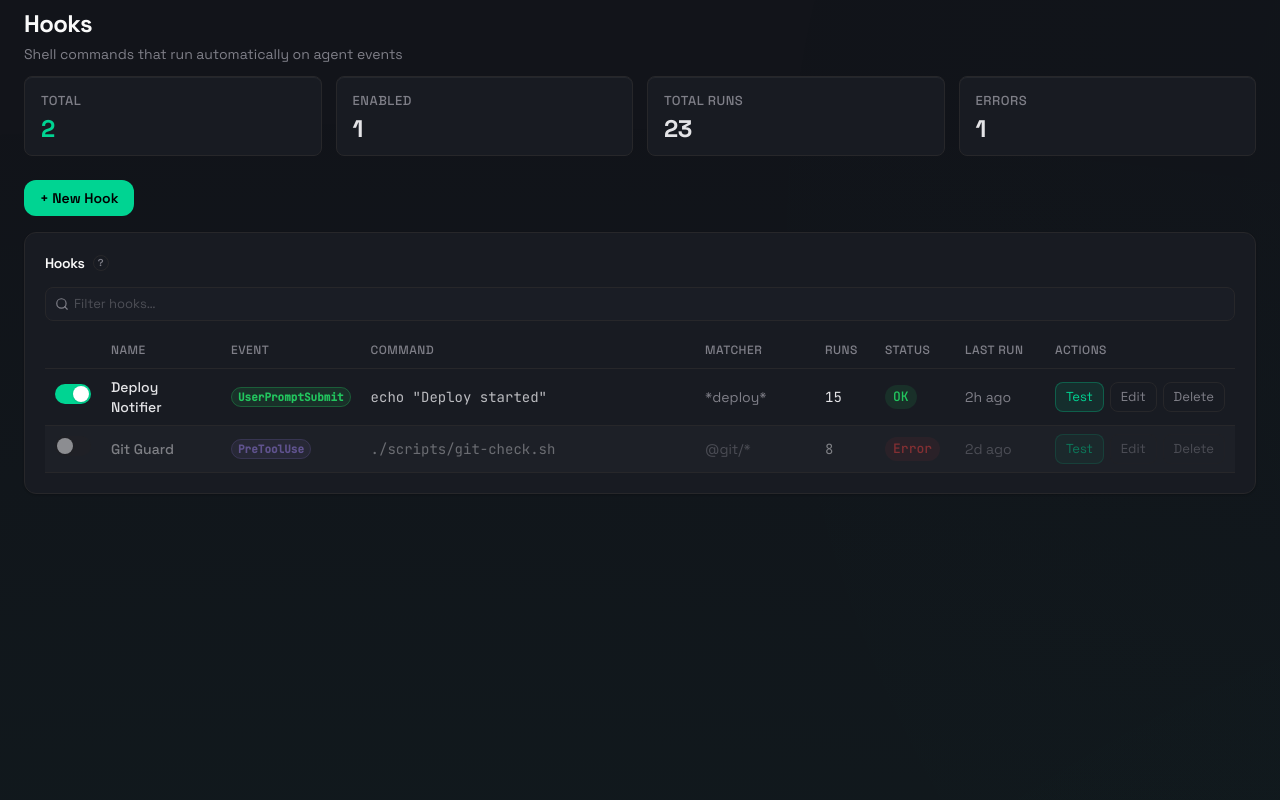
Test: HooksPage Integration Tests › changes event type and updates matcher placeholder
Click the button "+ New Hook": (79, 198) 24,180 -> 134,216
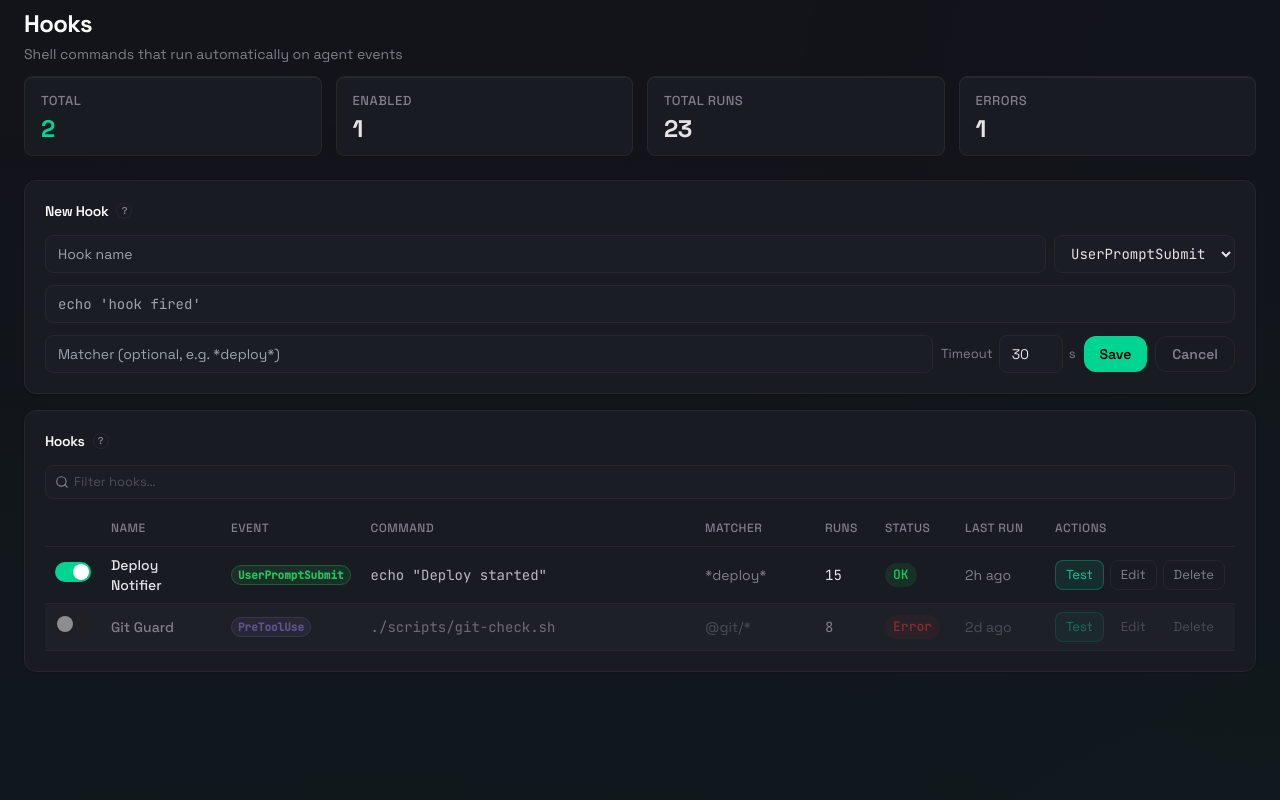
Expected: the field with placeholder "Hook name" is shown, 45,235 -> 1046,273
Select "PreToolUse" in the dropdown showing "UserPromptSubmit": (1144, 254) 1054,235 -> 1235,273
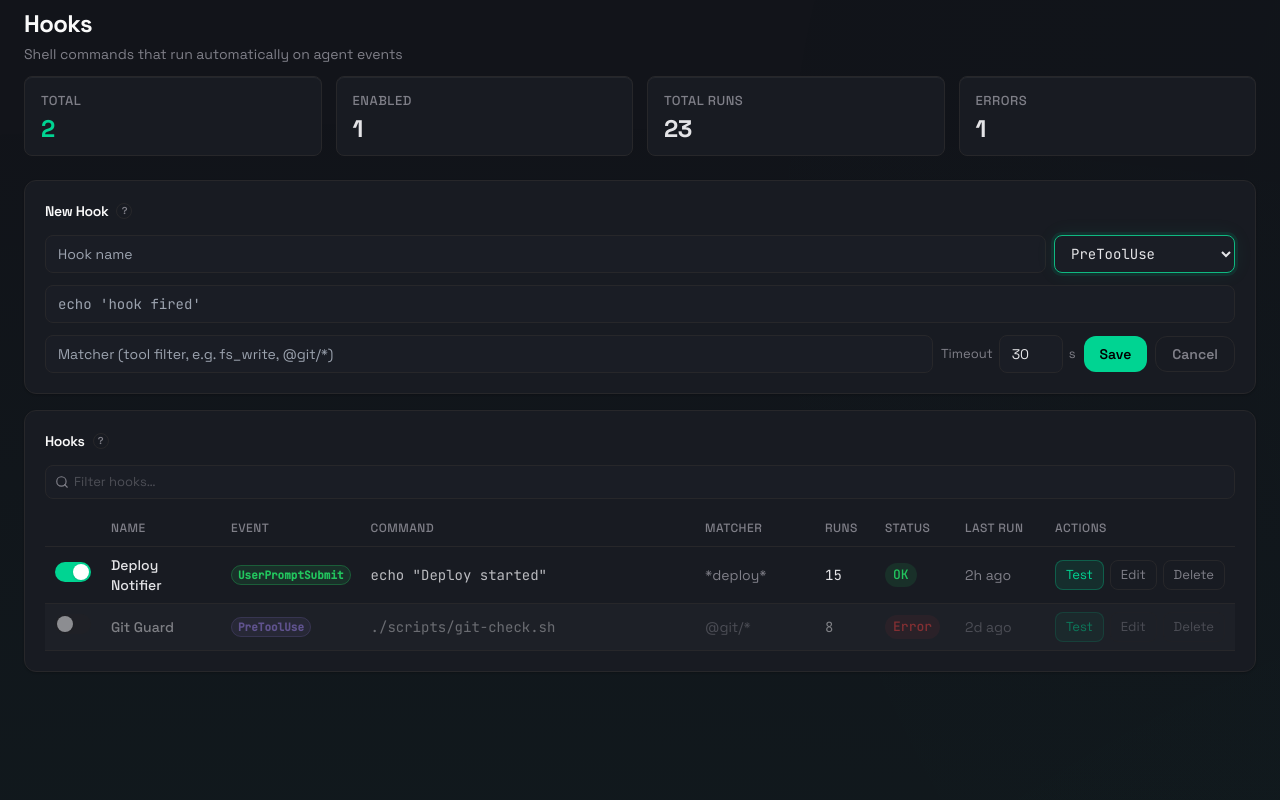
Expected: the field with placeholder "Matcher (tool filter, e.g. fs_write, @git/*)" is shown, 45,335 -> 933,373
